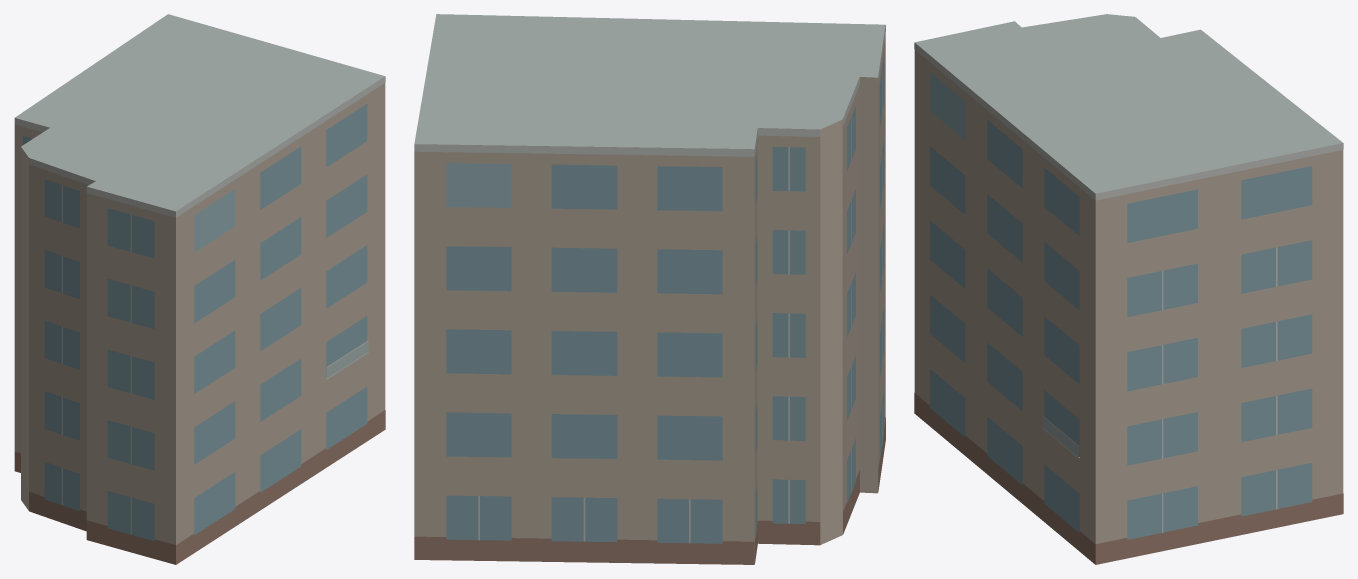
The model's file is survey-upis-32947586.glb.
3 renders of one model, left to right at view 1: azimuth 30°, elevation 25°; view 2: azimuth 150°, elevation 25°; view 3: azimuth 270°, elevation 25°, orthographic. The views are drawn at different scales.
Visible parts, largest first — view 1: survey-upis-32947586.tmp; view 2: survey-upis-32947586.tmp; view 3: survey-upis-32947586.tmp.
Boxes of the visible parts, <box> form: survey-upis-32947586.tmp: <box>14,14,385,564</box>; survey-upis-32947586.tmp: <box>414,14,885,564</box>; survey-upis-32947586.tmp: <box>914,14,1343,564</box>.
Bounding box in the file's own units: 13.84 × 13.31 × 13.96.
